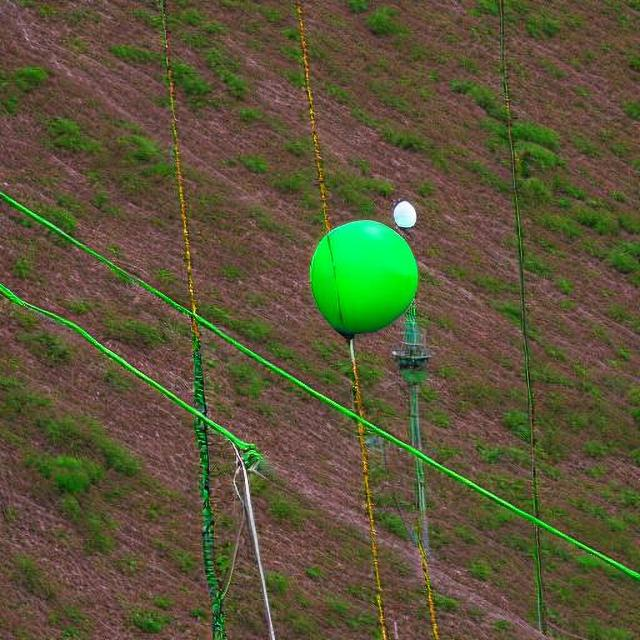balloon: (301, 214, 419, 342)
